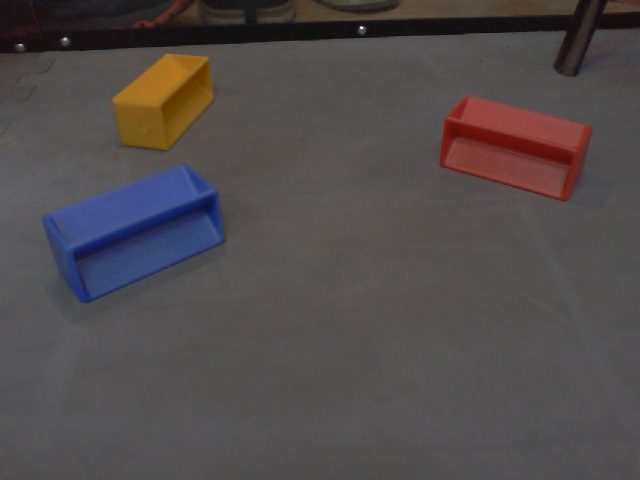BlueSample: (39, 161, 228, 305)
RedSample: (437, 95, 595, 204)
YellowSample: (110, 50, 216, 153)
